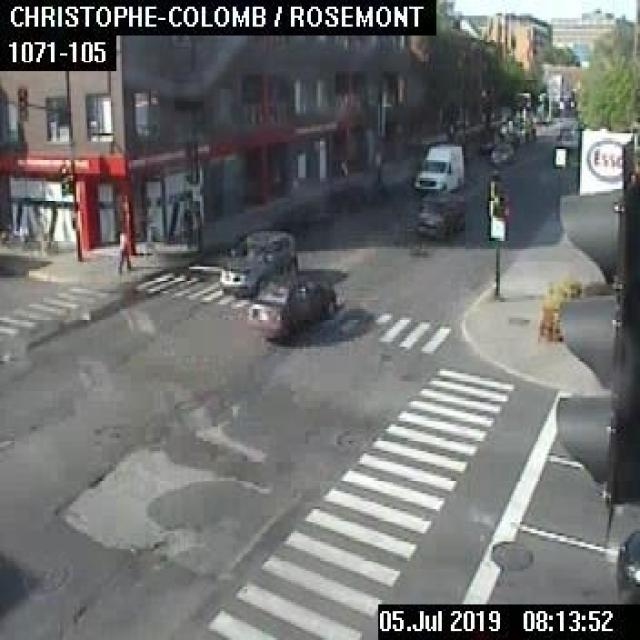pedestrian: (116, 227, 130, 273)
vehicle: (246, 275, 335, 338), (218, 231, 296, 294), (413, 144, 462, 192), (417, 190, 464, 239), (491, 142, 514, 162), (554, 124, 574, 146)
